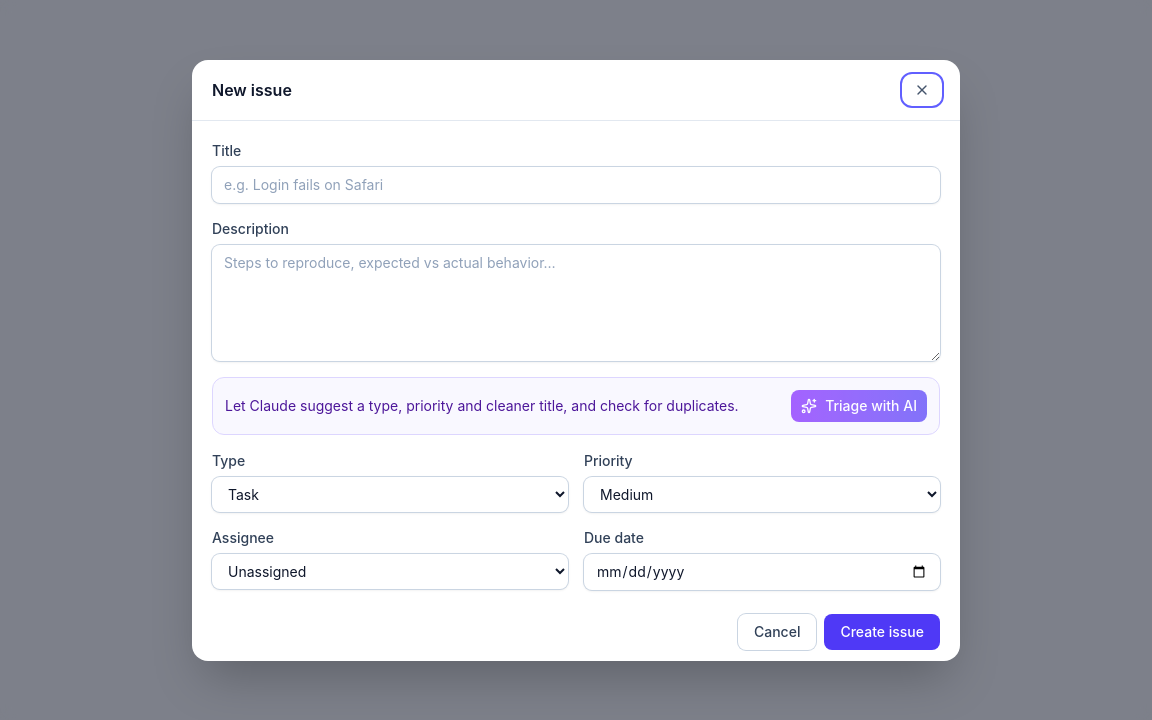
Scenario: CreateIssueModal › shows AI suggestions and duplicates, and applies them to the form
Expected: the button "Triage with AI" is disabled, [791, 390, 927, 422]
Type "login broken" into the field labelled "Title". click: x=576, y=184
box: [212, 166, 940, 202]
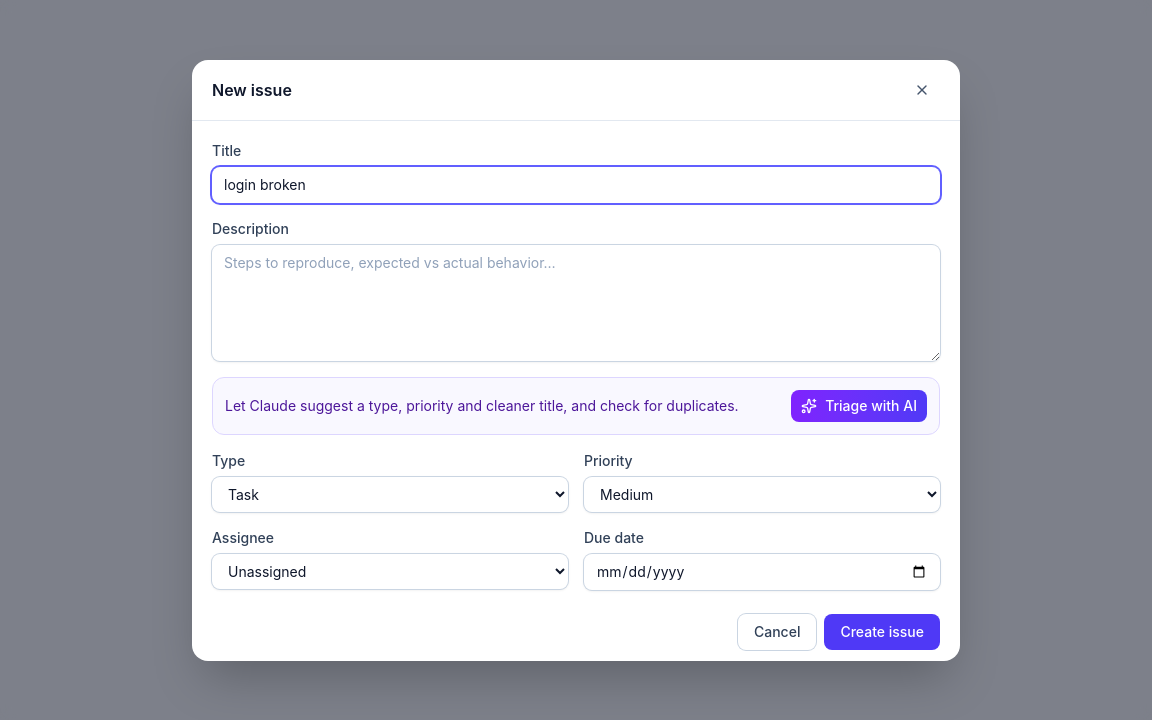
Type "Mixed@Case.com can't log in" into the text box labelled "Description". click: x=576, y=302
box: [212, 244, 940, 360]
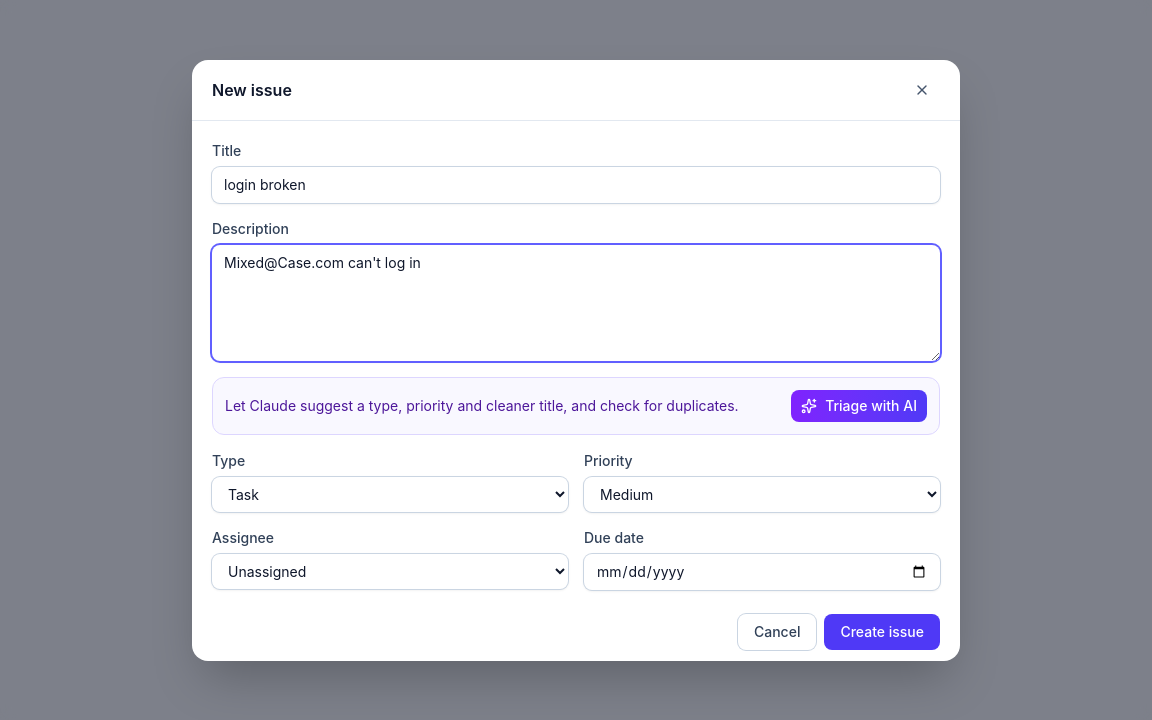
Click the button "Triage with AI". click: x=859, y=406
box: [791, 390, 927, 422]
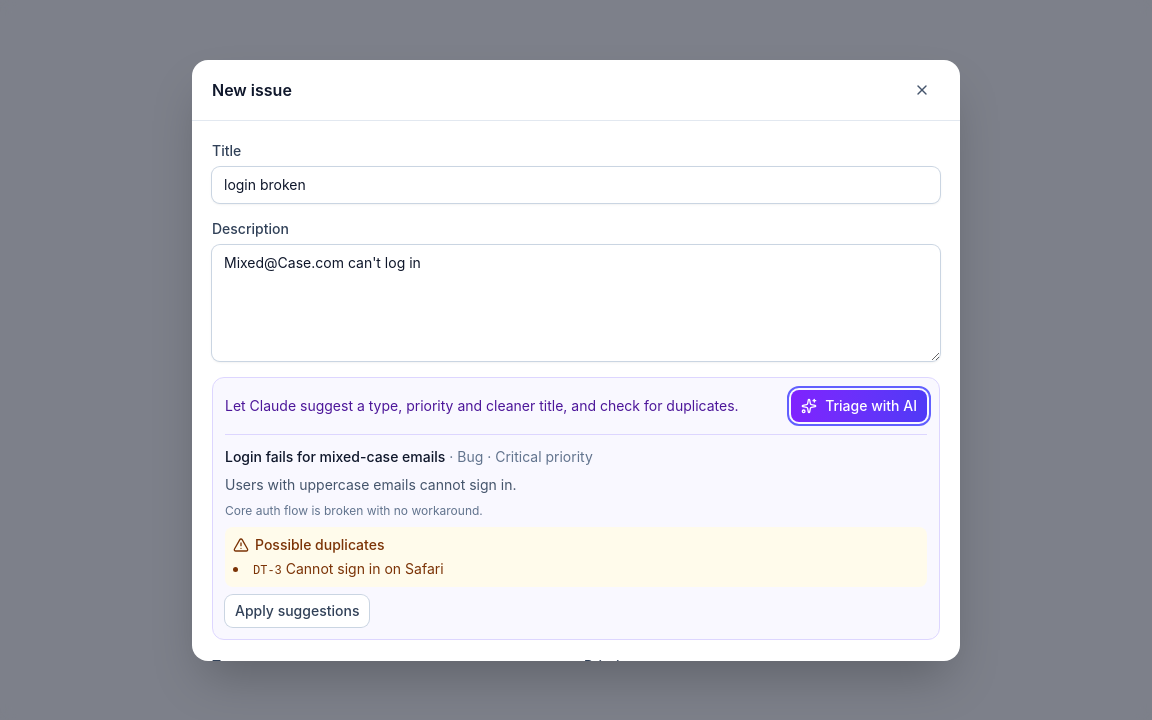
Expected: the text "Possible duplicates" is shown, [233, 536, 384, 552]
Expected: the list item "Cannot sign in on Safari" is shown, [286, 560, 444, 576]
Click the button "Apply suggestions". click: x=297, y=610
box: [225, 594, 369, 626]
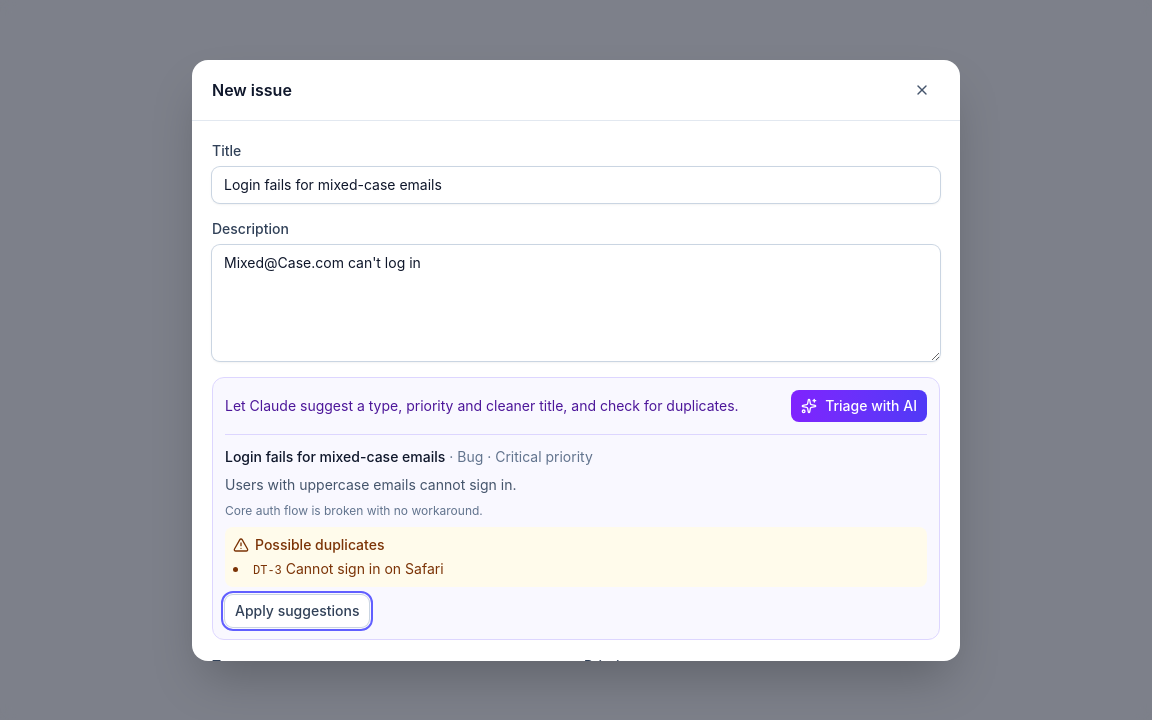
Expected: the field labelled "Title" holds "Login fails for mixed-case emails", [212, 166, 940, 202]
